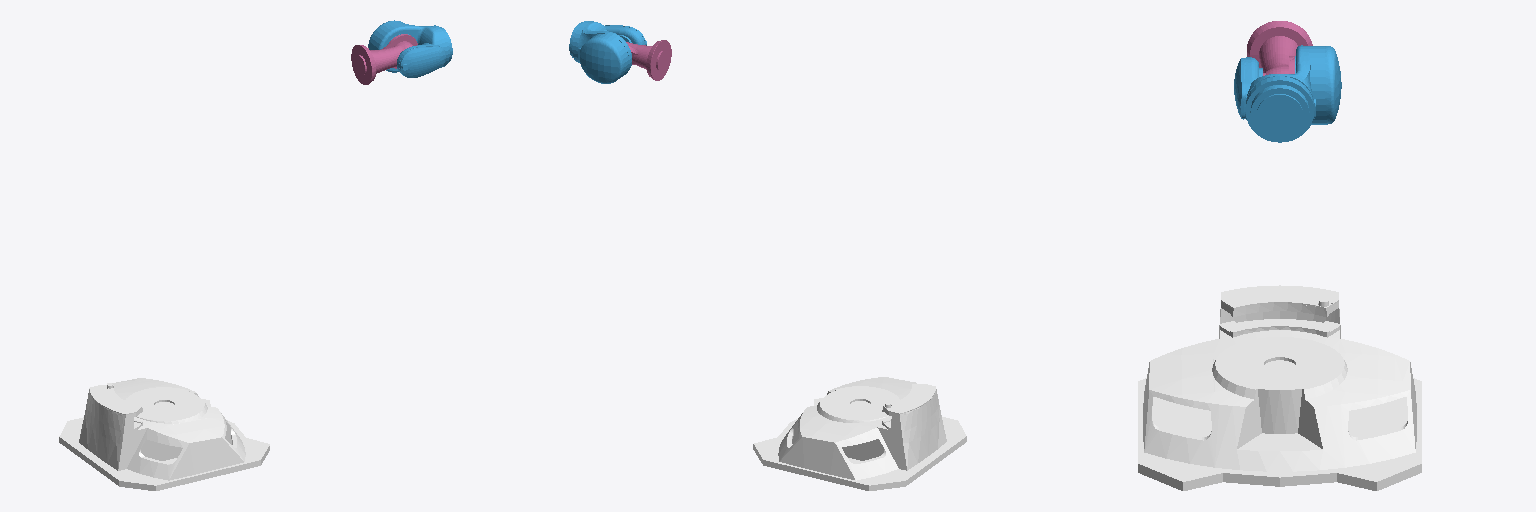
The robot description file, URDF, robot "robot_model_gazebo_test":
<?xml version="1.0"?>
<!--
	This is the description file of the milling robot.
	Used for test in gazebo.
-->
<robot name="robot_model_gazebo_test">
	<link name="world" />

	<joint name="world_to_base_joint" type="fixed">
		<parent link="world" />
		<child link="base_link" />
	</joint>

	<link name="base_link" />

	<joint name="joint_0" type="fixed">
		<origin rpy="0 0 0" xyz="0 0 0" />
		<parent link="base_link" />
		<child link="link_0_x" />
	</joint>

	<!-- =================================================================================== -->
	<!-- | Link 0 and joint 1 | -->
	<!-- =================================================================================== -->

	<link name="link_0_x">
		<inertial>
			<origin xyz="0.000 0.000 0.000" rpy=" 0.0000 0.000 0.000" />
			<!-- <mass value="0.000" xyz=" 0.0026 0.0187 0.1880" /> -->
			<!-- <mass value="110.000" xyz=" 0.0026 0.0187 0.1880" /> -->
			<mass value="110.000" xyz=" 0.0026 0.0187 0.1880" />
			<!-- <inertia ixx="0" ixy="0" ixz="0" iyy="0" iyz="0" izz="0" /> -->
			<inertia ixx="3.23" ixy="0.6444" ixz="0.4682" iyy="6.714" iyz="0.2578" izz="5.6498" />
		</inertial>

		<visual>
			<origin xyz="0.000 0.000 0.000" rpy=" 0.0000 0.000 0.000" />
			<geometry>
				<mesh filename="package://robot_model/mesh/L0.obj" scale="1 1 1" />
			</geometry>
			<material name="White">
				<color rgba="1.0 1.0 1.0 1.0" />
			</material>

		</visual>
		<collision>
			<origin xyz="0 0 0" rpy="0 0 0" />
			<geometry>
				<mesh filename="package://robot_model/mesh/L0.obj" scale="1 1 1" />
			</geometry>

		</collision>
	</link>

	<joint name="joint_1_x" type="continuous">

		<parent link="link_0_x" />
		<child link="link_0_y" />
		<origin xyz="0.0000 0.0000 0.2500" rpy="0.0000 0.0000 0.0000" />
		<axis xyz="1 0 0" />
	</joint>

	<link name="link_0_y">
		<inertial>
			<origin xyz="0.000 0.000 0.000" rpy=" 0.0000 0.000 0.000" />
			<mass value="0.001" xyz="0 0 0" />
			<inertia ixx="0.001" ixy="0" ixz="0" iyy="0.001" iyz="0" izz="0.001" />
		</inertial>
		<collision>
			<origin xyz="0 0 0" rpy="0 0 0" />

		</collision>
	</link>

	<joint name="joint_1_y" type="continuous">
		<!-- <movement type = "rotational" rigidity = "flexible"/> -->
		<parent link="link_0_y" />
		<child link="link_0_z" />
		<origin xyz="0.0000 0.0000 0.0000" rpy="0.0000 0.0000 0.0000" />
		<axis xyz="0 1 0" />
	</joint>

	<link name="link_0_z">
		<inertial>
			<origin xyz="0.000 0.000 0.000" rpy=" 0.0000 0.000 0.000" />
			<mass value="0.001" xyz="0 0 0" />
			<inertia ixx="0.001" ixy="0" ixz="0" iyy="0.001" iyz="0" izz="0.001" />
		</inertial>
		<collision>
			<origin xyz="0 0 0" rpy="0 0 0" />

		</collision>
	</link>

	<joint name="joint_1_z" type="continuous">
		<!-- <movement type = "rotational" rigidity = "flexible"/> -->
		<parent link="link_0_z" />
		<child link="link_1_x" />
		<origin xyz="0.0000 0.0000 0.0000" rpy="0.0000 0.0000 0.0000" />
		<axis xyz="0 0 1" />
	</joint>

	<!-- =================================================================================== -->
	<!-- | Link 1 and joint 2 | -->
	<!-- =================================================================================== -->
	<link name="link_1_x">
		<inertial>
			<origin xyz="0.000 0.000 0.000" rpy=" 0.0000 0.000 0.000" />
			<mass value="110.000" xyz=" 0.002646 0.018740 0.188026" />
			<inertia ixx="3.236370867" ixy="0.644464939" ixz="0.468238095" iyy="6.714710678" iyz="0.257842574" izz="5.649849463" />
		</inertial>

		<visual>
			<origin xyz="0.000 0.000 0.000" rpy=" 0.0000 0.000 0.000" />
			<geometry>
				<mesh filename="package://robot_model/mesh/L1.obj" scale="1 1 1" />
			</geometry>
			<!-- <material name="Red">
				<color rgba="1.0 0.0 0.0 0.0" />
			</material> -->

		</visual>
		<collision>
			<origin xyz="0 0 0" rpy="0 0 0" />
			<geometry>
				<mesh filename="package://robot_model/mesh/L1.obj" scale="1 1 1" />
			</geometry>

		</collision>

	</link>

	<joint name="joint_2_x" type="continuous">

		<parent link="link_1_x" />
		<child link="link_1_y" />
		<origin xyz="0.3500 0.0000 0.4250" rpy="0.0000 -1.5708 1.5708" />
		<axis xyz="1 0 0" />
	</joint>

	<link name="link_1_y">
		<inertial>
			<origin xyz="0.000 0.000 0.000" rpy=" 0.0000 0.000 0.000" />
			<mass value="0.001" xyz=" 0 0 0" />
			<inertia ixx="0.000" ixy="0" ixz="0" iyy="0.000" iyz="0" izz="0.000" />
		</inertial>
		<collision>
			<origin xyz="0 0 0" rpy="0 0 0" />

		</collision>
	</link>

	<joint name="joint_2_y" type="continuous">

		<parent link="link_1_y" />
		<child link="link_1_z" />
		<origin xyz="0.0000 0.0000 0.0000" rpy="0.0000 0.0000 0.0000" />
		<axis xyz="0 1 0" />
	</joint>

	<link name="link_1_z">
		<inertial>
			<origin xyz="0.000 0.000 0.000" rpy=" 0.0000 0.000 0.000" />
			<mass value="0.001" xyz=" 0 0 0" />
			<inertia ixx="0.000" ixy="0" ixz="0" iyy="0.000" iyz="0" izz="0.000" />
		</inertial>
		<collision>
			<origin xyz="0 0 0" rpy="0 0 0" />

		</collision>
	</link>

	<joint name="joint_2_z" type="continuous">

		<parent link="link_1_z" />
		<child link="link_2_x" />
		<origin xyz="0.0000 0.0000 0.0000" rpy="0.0000 0.0000 0.0000" />
		<axis xyz="0 0 1" />
	</joint>

	<!-- =================================================================================== -->
	<!-- | Link 2 and joint 3 | -->
	<!-- =================================================================================== -->


	<link name="link_2_x">
		<inertial>
			<origin xyz="0.000 0.000 0.000" rpy=" 0.0000 0.000 0.000" />
			<mass value="239.748" xyz=" 0.4274 0.0029  0.2362" />
			<inertia ixx="4.30639745" ixy="0.165463221" ixz="4.341148242" iyy="40.01608253" iyz="0.022575289" izz="39.50583604" />
		</inertial>

		<visual>
			<origin xyz="0.000 0.000 0.000" rpy=" 0.0000 0.000 0.000" />
			<geometry>

				<mesh filename="package://robot_model/mesh/L2.obj" />
			</geometry>
		</visual>
		<collision>
			<origin xyz="0 0 0" rpy="0 0 0" />
			<geometry>
				<mesh filename="package://robot_model/mesh/L2.obj" scale="1 1 1" />
			</geometry>
		</collision>
	</link>


	<joint name="joint_3_x" type="continuous">
		<!-- <movement type = "rotational" rigidity = "flexible"/> -->
		<parent link="link_2_x" />
		<child link="link_2_y" />
		<origin xyz="1.1500 0.0000 0.0000" rpy="0.0000 0.0000 -3.14159" />
		<axis xyz="1 0 0" />
	</joint>

	<link name="link_2_y">
		<inertial>
			<origin xyz="0.000 0.000 0.000" rpy=" 0.0000 0.000 0.000" />
			<mass value="0.001" xyz=" 0 0 0" />
			<inertia ixx="0.000" ixy="0" ixz="0" iyy="0.000" iyz="0" izz="0.000" />
		</inertial>
		<collision>
			<origin xyz="0 0 0" rpy="0 0 0" />

		</collision>

		<!-- dummy link does not need any attr. -->
		<!-- <visual name = "mesh_2_y">
			<origin xyz = "0.000 0.000 0.000" rpy = " 0.0000 0.000 0.000"/>
		</visual>  -->
	</link>

	<joint name="joint_3_y" type="continuous">
		<!-- <movement type = "rotational" rigidity = "flexible"/> -->
		<parent link="link_2_y" />
		<child link="link_2_z" />
		<origin xyz="0.0000 0.0000 0.0000" rpy="0.0000 0.0000 0.0000" />
		<axis xyz="0 1 0" />
	</joint>

	<link name="link_2_z">
		<inertial>
			<origin xyz="0.000 0.000 0.000" rpy=" 0.0000 0.000 0.000" />
			<mass value="0.001" xyz=" 0 0 0" />
			<inertia ixx="0.000" ixy="0" ixz="0" iyy="0.000" iyz="0" izz="0.000" />
		</inertial>
		<collision>
			<origin xyz="0 0 0" rpy="0 0 0" />

		</collision>
		<!-- dummy link does not need any attr. -->
		<!-- <visual name = "mesh_2_z">
			<origin xyz = "0.000 0.000 0.000" rpy = " 0.0000 0.000 0.000"/>
		</visual>  -->
	</link>

	<joint name="joint_3_z" type="continuous">
		<!-- <movement type = "rotational" rigidity = "flexible"/> -->
		<parent link="link_2_z" />
		<child link="link_3_x" />
		<origin xyz="0.0000 0.0000 0.0000" rpy="0.0000 0.0000 0.0000" />
		<axis xyz="0 0 1" />
	</joint>

	<!-- =================================================================================== -->
	<!-- | Link 3 and joint 4 | -->
	<!-- =================================================================================== -->

	<link name="link_3_x">
		<inertial>
			<mass value="164.006" xyz=" 0.023521 0.157165  0.000000" />
			<inertia ixx="16.43037097" ixy="0.336896677" ixz="0.018073572" iyy="2.381578838" iyz="0.191901642" izz="16.17115993" />
		</inertial>

		<visual name="mesh_3_z">
			<origin xyz="0.000 0.000 0.000" rpy=" 0.0000 0.000 0.000" />
			<geometry>
				<!-- <mesh filename = "L3.obj" scale = "1.0"/> -->
				<mesh filename="package://robot_model/mesh/L3.obj" />
			</geometry>
		</visual>
		<collision>
			<origin xyz="0 0 0" rpy="0 0 0" />
			<geometry>
				<mesh filename="package://robot_model/mesh/L3.obj" scale="1 1 1" />
			</geometry>
		</collision>
	</link>

	<joint name="joint_4_x" type="continuous">
		<!-- <movement type = "rotational" rigidity = "flexible"/> -->
		<parent link="link_3_x" />
		<child link="link_3_y" />
		<origin xyz="0.0410 0.7545 0.0000" rpy="-1.5708 0.0000 0.0000" />
		<axis xyz="1 0 0" />
	</joint>

	<link name="link_3_y">
		<inertial>
			<origin xyz="0.000 0.000 0.000" rpy=" 0.0000 0.000 0.000" />
			<mass value="0.001" xyz=" 0 0 0" />
			<inertia ixx="0.000" ixy="0" ixz="0" iyy="0.000" iyz="0" izz="0.000" />
		</inertial>
		<collision>
			<origin xyz="0 0 0" rpy="0 0 0" />

		</collision>
		<!-- dummy link does not need any attr. -->
		<!-- <visual name = "mesh_3_y">
			<origin xyz = "0.000 0.000 0.000" rpy = " 0.0000 0.000 0.000"/>
		</visual>  -->
	</link>

	<joint name="joint_4_y" type="continuous">
		<!-- <movement type = "rotational" rigidity = "flexible"/> -->
		<parent link="link_3_y" />
		<child link="link_3_z" />
		<origin xyz="0.0000 0.0000 0.0000" rpy="0.0000 0.0000 0.0000" />
		<axis xyz="0 1 0" />
	</joint>

	<link name="link_3_z">
		<inertial>
			<origin xyz="0.000 0.000 0.000" rpy=" 0.0000 0.000 0.000" />
			<mass value="0.001" xyz=" 0 0 0" />
			<inertia ixx="0.000" ixy="0" ixz="0" iyy="0.000" iyz="0" izz="0.000" />
		</inertial>
		<collision>
			<origin xyz="0 0 0" rpy="0 0 0" />

		</collision>
		<!-- dummy link does not need any attr. -->
		<!-- <visual name = "mesh_3_z">
			<origin xyz = "0.000 0.000 0.000" rpy = " 0.0000 0.000 0.000"/>
		</visual>  -->
	</link>

	<joint name="joint_4_z" type="continuous">
		<!-- <movement type = "rotational" rigidity = "flexible"/> -->
		<parent link="link_3_z" />
		<child link="link_4_x" />
		<origin xyz="0.0000 0.0000 0.0000" rpy="0.0000 0.0000 0.0000" />
		<axis xyz="0 0 1" />
	</joint>

	<!-- =================================================================================== -->
	<!-- | Link 4 and joint 5 | -->
	<!-- =================================================================================== -->
	<link name="link_4_x">
		<inertial>
			<mass value=" 39.746" xyz=" 0.000000 0.001354 0.223432" />
			<inertia ixx="0.419700279" ixy="0" ixz="0" iyy="0.425200882" iyz="0.009137089" izz="0.097243405" />
		</inertial>
		<visual name="mesh_4_x">
			<origin xyz="0.000 0.000 0.000" rpy=" 0.0000 0.000 0.000" />
			<geometry>
				<mesh filename="package://robot_model/mesh/L4.obj" />
			</geometry>
		</visual>
		<collision>
			<origin xyz="0 0 0" rpy="0 0 0" />
			<geometry>
				<mesh filename="package://robot_model/mesh/L4.obj" scale="1 1 1" />
			</geometry>
		</collision>
	</link>

	<joint name="joint_5_x" type="continuous">
		<!-- <movement type = "rotational" rigidity = "flexible"/> -->
		<parent link="link_4_x" />
		<child link="link_4_y" />
		<origin xyz="0.0000 0.0000 0.245500" rpy="1.5708 0.0000 0.0000" />
		<axis xyz="1 0 0" />
	</joint>

	<link name="link_4_y">
		<inertial>
			<origin xyz="0.000 0.000 0.000" rpy=" 0.0000 0.000 0.000" />
			<mass value="0.001" xyz=" 0 0 0" />
			<inertia ixx="0.000" ixy="0" ixz="0" iyy="0.000" iyz="0" izz="0.000" />
		</inertial>
		<collision>
			<origin xyz="0 0 0" rpy="0 0 0" />

		</collision>
		<!-- dummy link does not need any attr. -->
		<!-- <visual name = "mesh_4_y">
			<origin xyz = "0.000 0.000 0.000" rpy = " 0.0000 0.000 0.000"/>
		</visual>  -->
	</link>

	<joint name="joint_5_y" type="continuous">
		<!-- <movement type = "rotational" rigidity = "flexible"/> -->
		<parent link="link_4_y" />
		<child link="link_4_z" />
		<origin xyz="0.0000 0.0000 0.0000" rpy="0.0000 0.0000 0.0000" />
		<axis xyz="0 1 0" />
	</joint>

	<link name="link_4_z">
		<inertial>
			<origin xyz="0.000 0.000 0.000" rpy=" 0.0000 0.000 0.000" />
			<mass value="0.001" xyz=" 0 0 0" />
			<inertia ixx="0.000" ixy="0" ixz="0" iyy="0.000" iyz="0" izz="0.000" />
		</inertial>
		<collision>
			<origin xyz="0 0 0" rpy="0 0 0" />

		</collision>
		<!-- dummy link does not need any attr. -->
		<!-- <visual name = "mesh_4_z">
			<origin xyz = "0.000 0.000 0.000" rpy = " 0.0000 0.000 0.000"/>
		</visual>  -->
	</link>

	<joint name="joint_5_z" type="continuous">
		<!-- <movement type = "rotational" rigidity = "flexible"/> -->
		<parent link="link_4_z" />
		<child link="link_5_x" />
		<origin xyz="0.0000 0.0000 0.0000" rpy="0.0000 0.0000 0.0000" />
		<axis xyz="0 0 1" />
	</joint>

	<!-- =================================================================================== -->
	<!-- | Link 5 and joint 6 | -->
	<!-- =================================================================================== -->

	<link name="link_5_x">
		<inertial>
			<origin xyz="0.0000 0.0000 0.0000" rpy="0.0000 0.0000 0.0000" />
			<mass value=" 28.510" xyz=" 0.000000 0.054123 -0.037621" />
			<inertia ixx="0.436341228" ixy="0.000008171" ixz="0.000000068" iyy="0.296286531" iyz="0.06785905" izz="0.294686677" />
		</inertial>
		<visual name="mesh_5_x">
			<origin xyz="0.000 0.000 0.000" rpy=" 0.0000 0.000 0.000" />
			<geometry>
				<!-- <mesh filename = "L5.obj" scale = "1.0"/> -->
				<mesh filename="package://robot_model/mesh/L5.obj" />
			</geometry>

		</visual>

		<collision>
			<origin xyz="0 0 0" rpy="0 0 0" />
			<geometry>
				<mesh filename="package://robot_model/mesh/L5.obj" scale="1 1 1" />
			</geometry>

		</collision>
	</link>

	<joint name="joint_6_x" type="continuous">
		<!-- <movement type = "rotational" rigidity = "flexible"/> -->
		<parent link="link_5_x" />
		<child link="link_5_y" />
		<origin xyz="0.0000 0.2400 0.0000" rpy="-1.5708 0.0000 0.0000" />
		<axis xyz="1 0 0" />
	</joint>

	<link name="link_5_y">
		<inertial>
			<origin xyz="0.000 0.000 0.000" rpy=" 0.0000 0.000 0.000" />
			<mass value="0.001" xyz=" 0 0 0" />
			<inertia ixx="0.000" ixy="0" ixz="0" iyy="0.000" iyz="0" izz="0.000" />
		</inertial>
		<collision>
			<origin xyz="0 0 0" rpy="0 0 0" />

		</collision>
		<!-- dummy link does not need any attr. -->
		<!-- <visual name = "mesh_5_y">
			<origin xyz = "0.000 0.000 0.000" rpy = " 0.0000 0.000 0.000"/>
		</visual>  -->
	</link>

	<joint name="joint_6_y" type="continuous">
		<!-- <movement type = "rotational" rigidity = "flexible"/> -->
		<parent link="link_5_y" />
		<child link="link_5_z" />
		<origin xyz="0.0000 0.0000 0.0000" rpy="0.0000 0.0000 0.0000" />
		<axis xyz="0 1 0" />
	</joint>

	<link name="link_5_z">
		<inertial>
			<origin xyz="0.000 0.000 0.000" rpy=" 0.0000 0.000 0.000" />
			<mass value="0.001" xyz=" 0 0 0" />
			<inertia ixx="0.000" ixy="0" ixz="0" iyy="0.000" iyz="0" izz="0.000" />
		</inertial>
		<collision>
			<origin xyz="0 0 0" rpy="0 0 0" />

		</collision>
		<!-- dummy link does not need any attr. -->
		<!-- <visual name = "mesh_5_z">
			<origin xyz = "0.000 0.000 0.000" rpy = " 0.0000 0.000 0.000"/>
		</visual>  -->
	</link>

	<joint name="joint_6_z" type="continuous">
		<!-- <movement type = "rotational" rigidity = "flexible"/> -->
		<parent link="link_5_z" />
		<child link="link_6_x" />
		<origin xyz="0.0000 0.0000 0.0000" rpy="0.0000 0.0000 0.0000" />
		<axis xyz="0 0 1" />
	</joint>

	<!-- =================================================================================== -->
	<!-- | Link 6 | -->
	<!-- =================================================================================== -->

	<link name="link_6_x">
		<inertial>
			<origin xyz="0.0000 0.0000 0.0000" rpy="0.0000 0.0000 0.0000" />
			<mass value=" 78.622" xyz="-0.065895 0.000000  0.122766" />
			<inertia ixx="0.766497" ixy="0" ixz="0.01855" iyy="1.401573" iyz="0" izz="1.295152" />
		</inertial>

		<visual name="mesh_6">
			<origin xyz="0.000 0.000 0.000" rpy=" 0.0000 0.000 0.000" />
			<geometry>
				<!-- <mesh filename = "L6Spindle.obj" scale = "1.0"/> -->
				<mesh filename="package://robot_model/mesh/L6Spindle.obj" />
			</geometry>

		</visual>

		<collision>
			<origin xyz="0 0 0" rpy="0 0 0" />
			<geometry>
				<mesh filename="package://robot_model/mesh/L6Spindle.obj" scale="1 1 1" />
			</geometry>

		</collision>
	</link>


</robot>


	

--- What the picture shows (computed from the rendered views, not written in the file) ---
Views: 3 orthographic renders of the robot side by side, from view 1: azimuth 30°, elevation 25°; view 2: azimuth 150°, elevation 25°; view 3: azimuth 270°, elevation 25°.
Robot: robot_model_gazebo_test — 21 links, 20 joints (18 continuous, 2 fixed); root link world; default pose: all joints at 0.
Visible links, largest first — view 1: link_0_x, link_5_x, link_4_x; view 2: link_0_x, link_5_x, link_4_x; view 3: link_0_x, link_5_x, link_4_x.
Link boxes in pixels (x1,y1,x2,y2): link_0_x: [59, 378, 269, 490]; link_5_x: [368, 20, 452, 77]; link_4_x: [351, 34, 417, 84]; link_0_x: [753, 377, 966, 490]; link_5_x: [569, 21, 646, 83]; link_4_x: [626, 40, 671, 80]; link_0_x: [1138, 285, 1421, 490]; link_5_x: [1234, 45, 1341, 142]; link_4_x: [1247, 21, 1312, 75].
Size in the robot's own frame: 1.99 by 0.856 by 1.9 metres.
Meshes: 7 distinct files referenced, 3 mesh visuals loaded (3 OBJ); not drawn: 4 (reference not matched to a file when rendering).